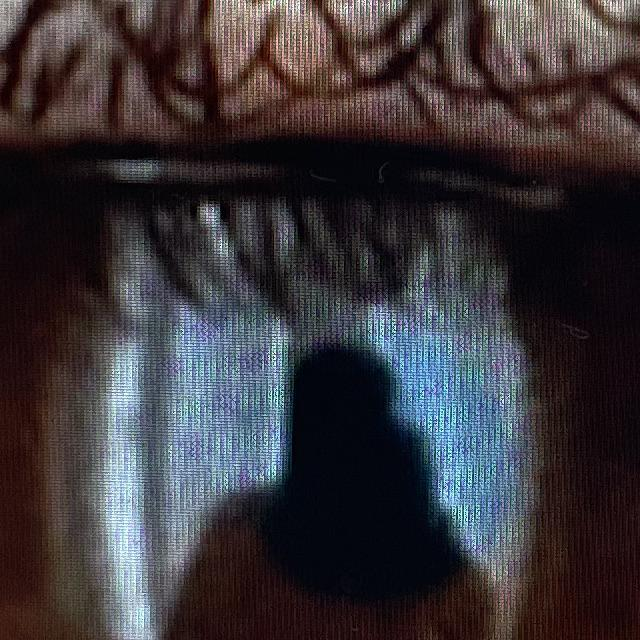eye: (0, 119, 640, 640)
iris: (0, 144, 640, 640)
